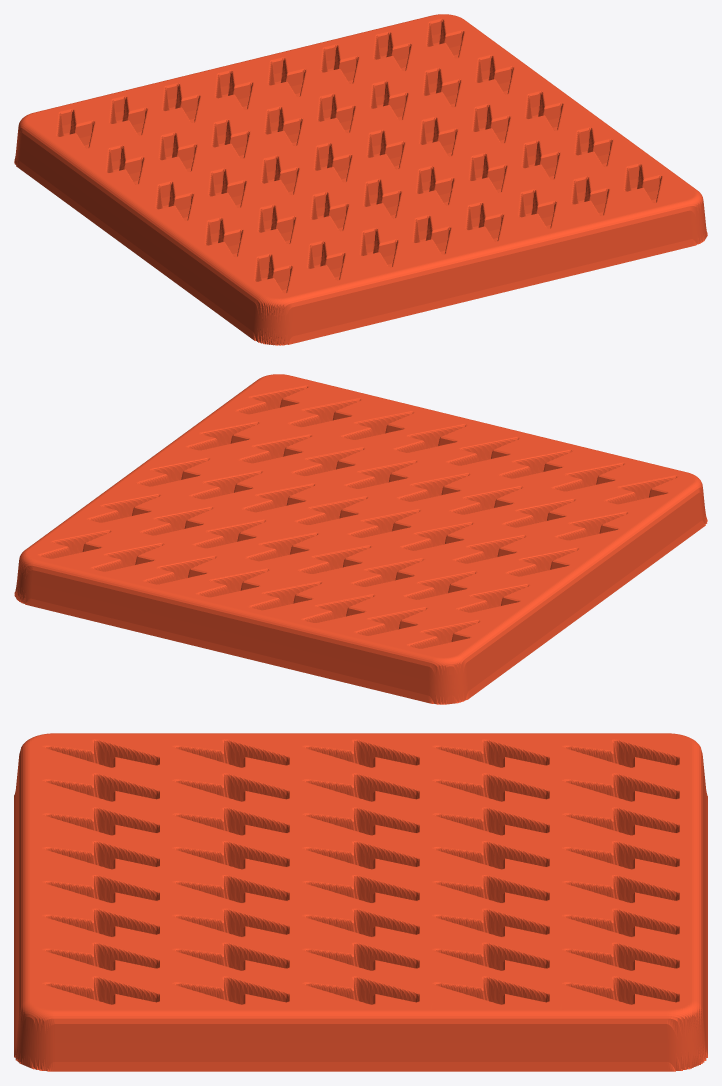
The model's file is mold.glb.
3 views of the same model, one above another, from view 1: azimuth 30°, elevation 25°; view 2: azimuth 150°, elevation 25°; view 3: azimuth 270°, elevation 25° (orthographic). The views are drawn at different scales.
Parts seen in each view (by area): view 1: geometry_0; view 2: geometry_0; view 3: geometry_0.
Part boxes in pixels (x1,y1,x2,y2): geometry_0: (14,14,707,345); geometry_0: (14,374,707,704); geometry_0: (14,733,707,1071).
Size of the model in its own units: 0.155 by 0.0136 by 0.1571.
